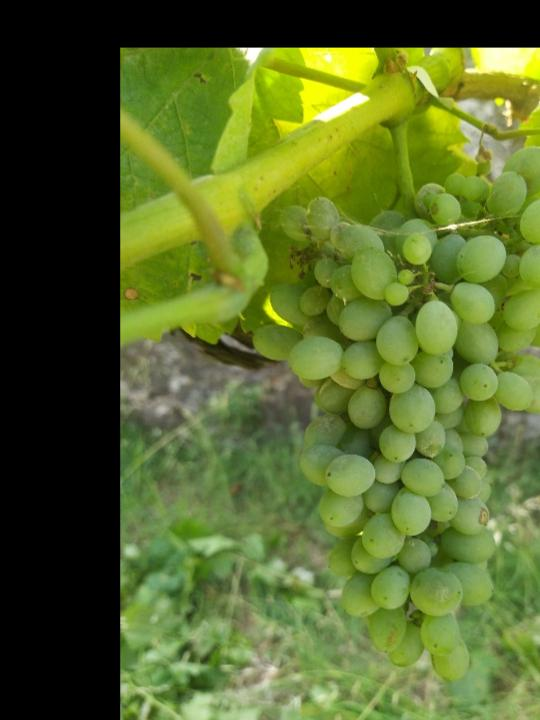grape: (244, 137, 540, 690)
